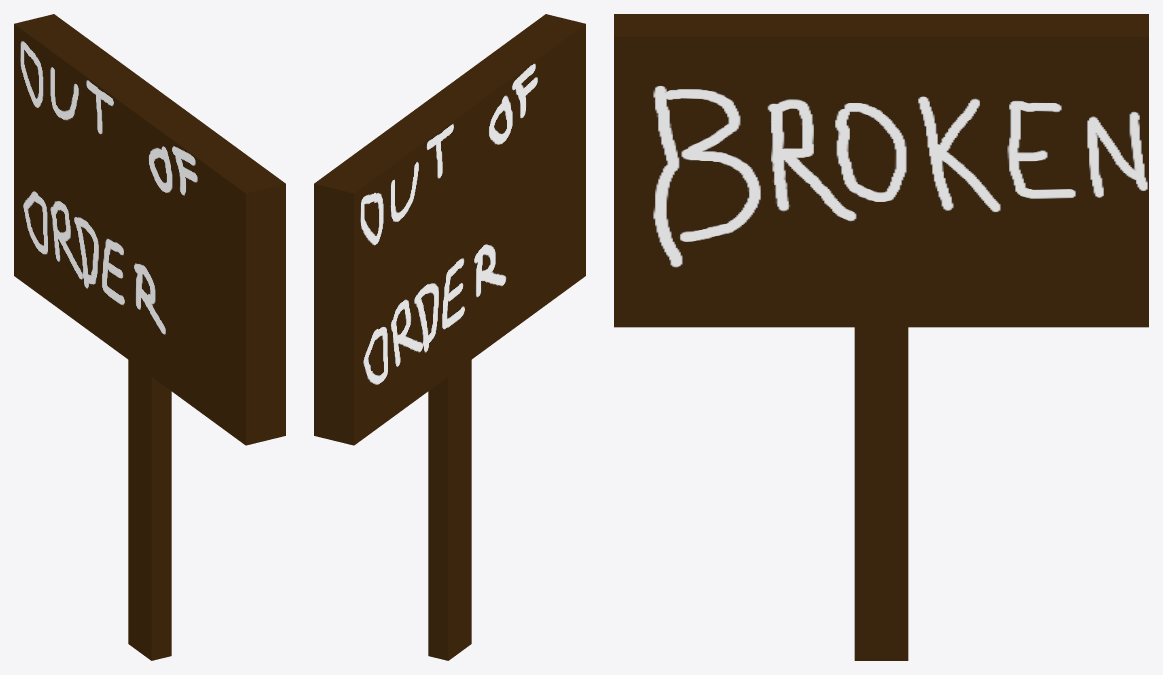
File: broken_sign.glb
The picture shows the model from 3 angles, left to right: view 1: azimuth 30°, elevation 25°; view 2: azimuth 150°, elevation 25°; view 3: azimuth 270°, elevation 25°; orthographic projection. The views are drawn at different scales.
Parts seen in each view (by area): view 1: Cube; view 2: Cube; view 3: Cube.
Boxes of the visible parts, bbox=[...] form: Cube: bbox=[14, 14, 285, 660]; Cube: bbox=[314, 14, 585, 660]; Cube: bbox=[614, 14, 1148, 660].
Bounding box in the file's own units: 0.1 × 1.3 × 1.
1 material, 1 textured.
